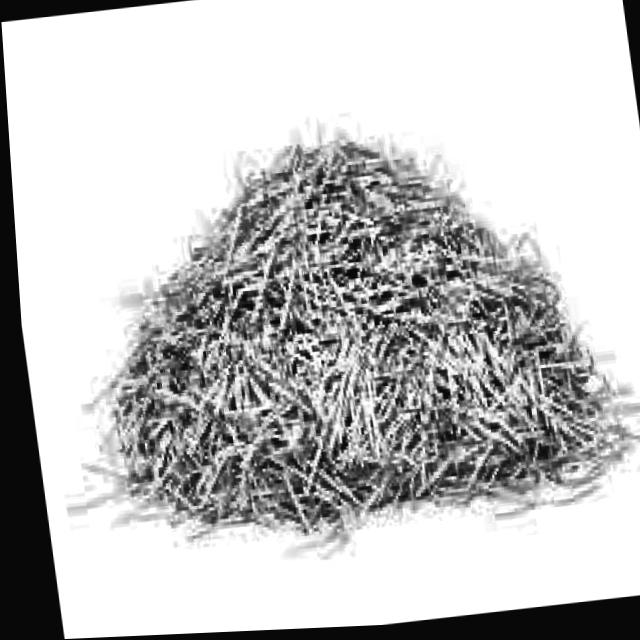Paper: (57, 98, 640, 559)
